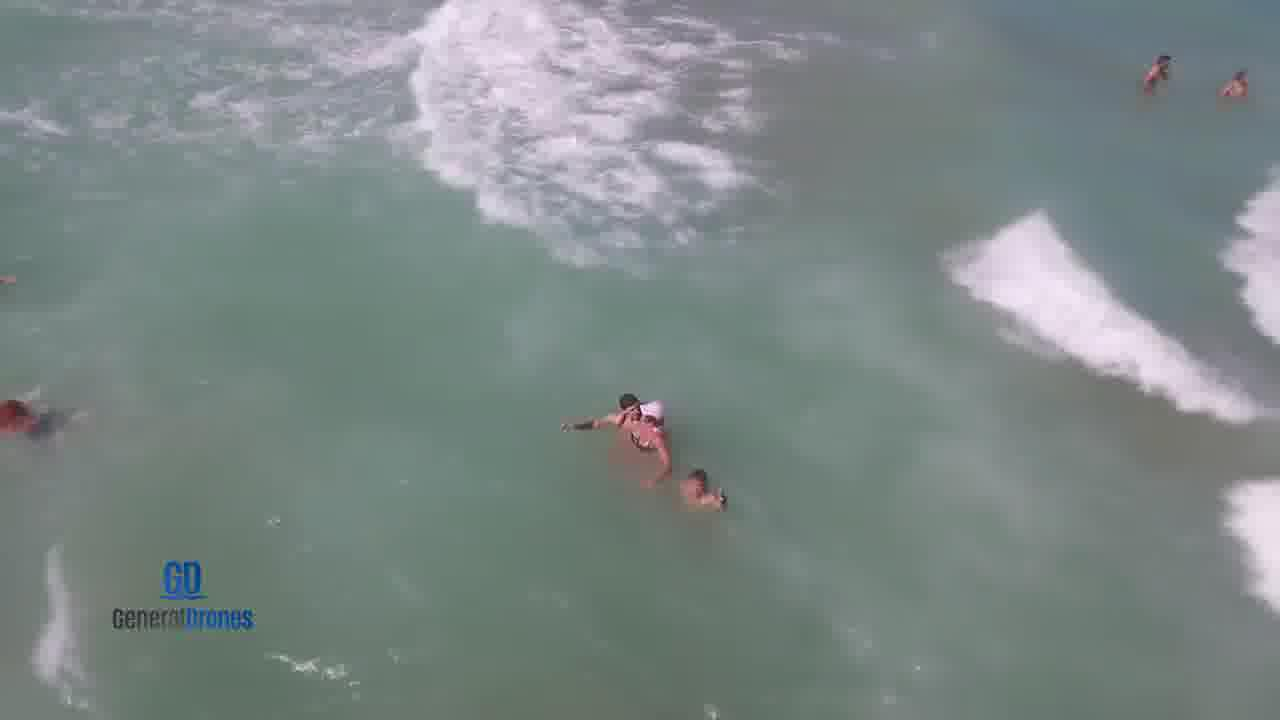human: (550, 375, 686, 499), (674, 461, 740, 521), (1209, 48, 1261, 105), (1132, 45, 1184, 98), (610, 380, 663, 426)
